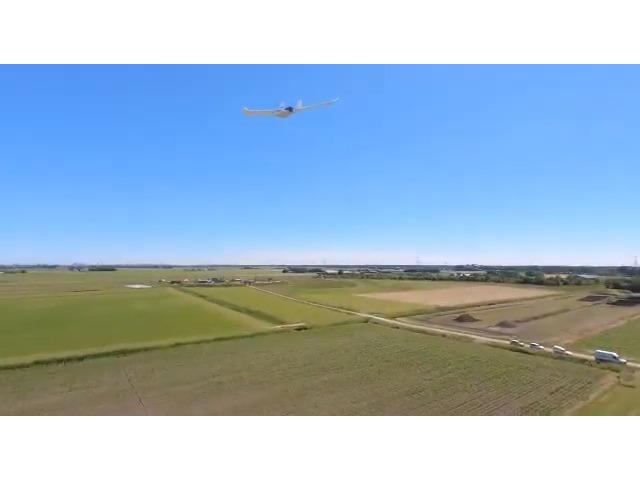Anti-Drone: (222, 84, 358, 132)
